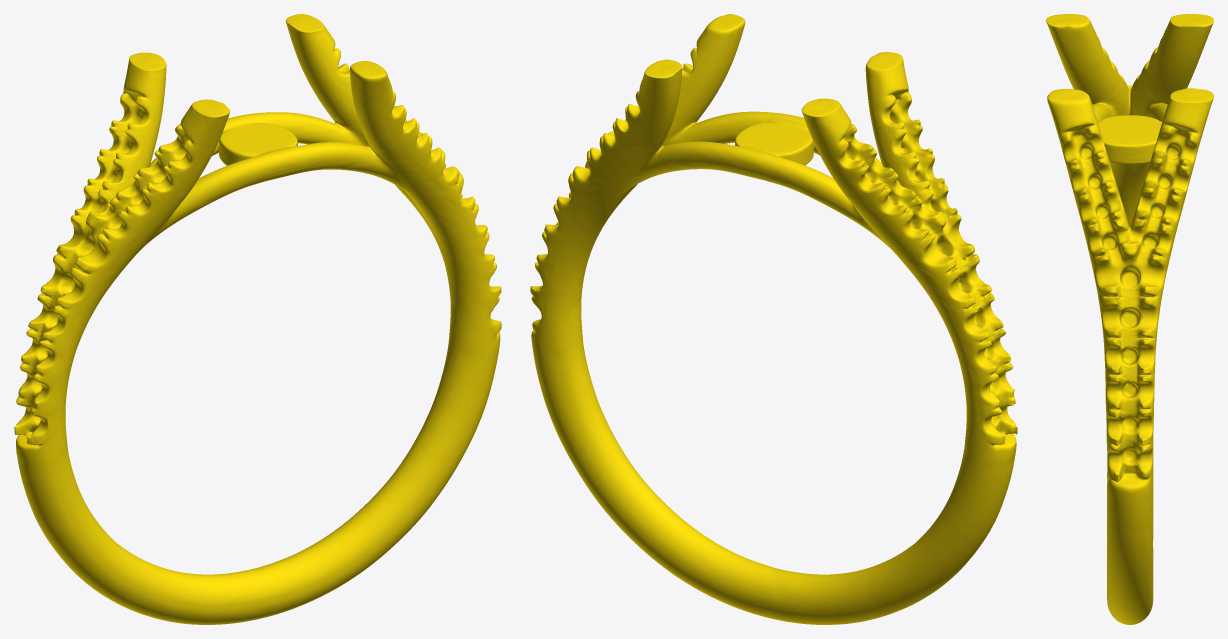
The model's file is Shank_Split_U Prong_B_Single Halo_Band.glb.
The picture shows the model from 3 angles, left to right: view 1: azimuth 30°, elevation 25°; view 2: azimuth 150°, elevation 25°; view 3: azimuth 270°, elevation 25°; orthographic projection.
Bounding box in the file's own units: 0.0211 × 0.0233 × 0.00654.
